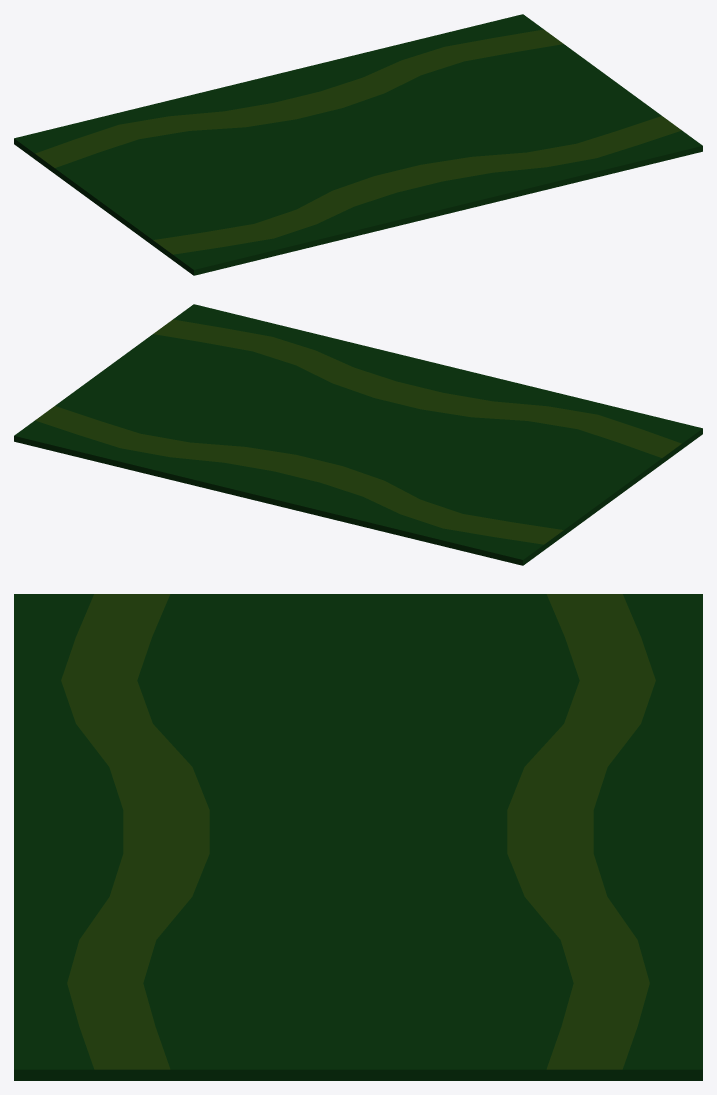
The model's file is Rug1.fbx.
3 renders of one model, top to bottom at view 1: azimuth 30°, elevation 25°; view 2: azimuth 150°, elevation 25°; view 3: azimuth 270°, elevation 25°, orthographic. The views are drawn at different scales.
Parts seen in each view (by area): view 1: Prop_Carpet_01; view 2: Prop_Carpet_01; view 3: Prop_Carpet_01.
Part boxes in pixels (x1=…): Prop_Carpet_01: x1=14, y1=14, x2=702, y2=275; Prop_Carpet_01: x1=14, y1=304, x2=702, y2=565; Prop_Carpet_01: x1=14, y1=594, x2=702, y2=1080.
Bounding box in the file's own units: 175 × 1.92 × 107.
Materials: 1 (1 with a texture image).
